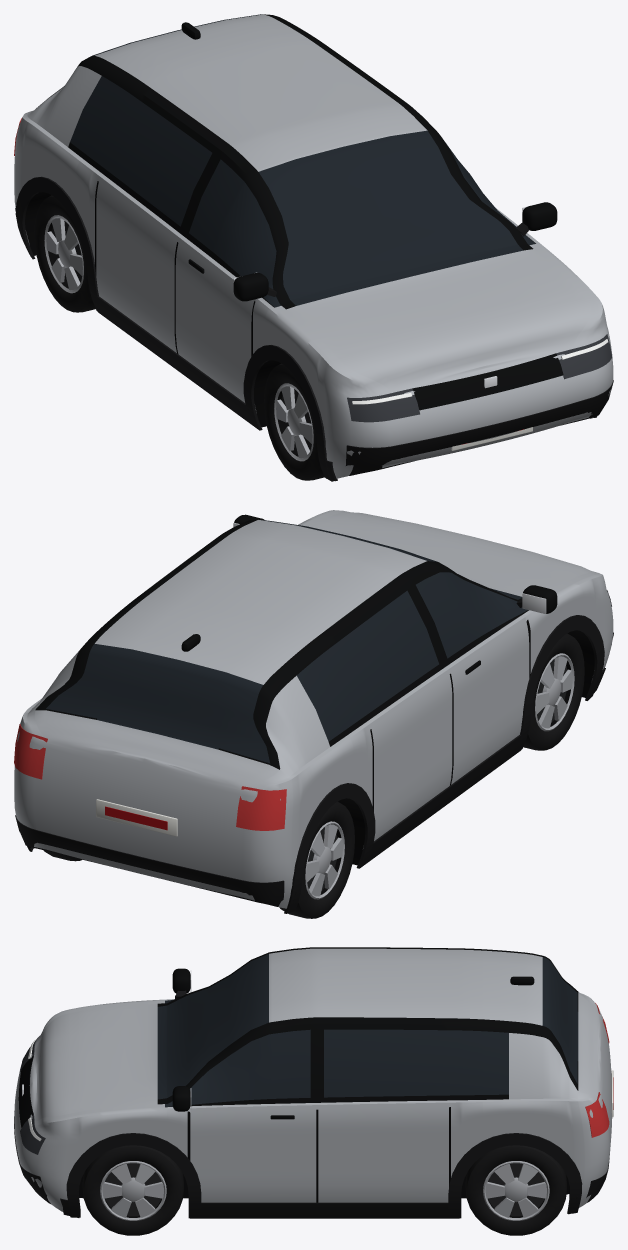
File: renault_5.glb
The picture shows the model from 3 angles, top to bottom: view 1: azimuth 30°, elevation 25°; view 2: azimuth 150°, elevation 25°; view 3: azimuth 270°, elevation 25°; orthographic projection. The views are drawn at different scales.
Parts seen in each view (by area): view 1: body, wheel-back-right, wheel-front-right; view 2: body, wheel-back-right, wheel-front-right; view 3: body, wheel-back-left, wheel-front-left.
Part boxes in pixels (x1,y1,x2,y2): body: (14,14,613,481); wheel-back-right: (34,195,95,312); wheel-front-right: (264,363,324,480); body: (14,510,613,913); wheel-back-right: (279,801,354,918); wheel-front-right: (523,633,584,750); body: (14,947,613,1218); wheel-back-left: (465,1145,566,1235); wheel-front-left: (82,1145,183,1235).
Bounding box in the file's own units: 2.03 × 1.51 × 3.98.
